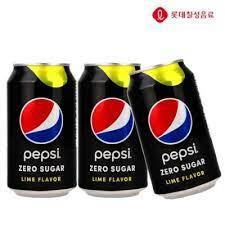pepsi_zero: (132, 63, 221, 198), (6, 59, 78, 200)
